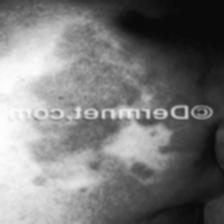Unclassified: (16, 42, 132, 106), (25, 124, 128, 194), (0, 133, 26, 195), (0, 80, 9, 130)
